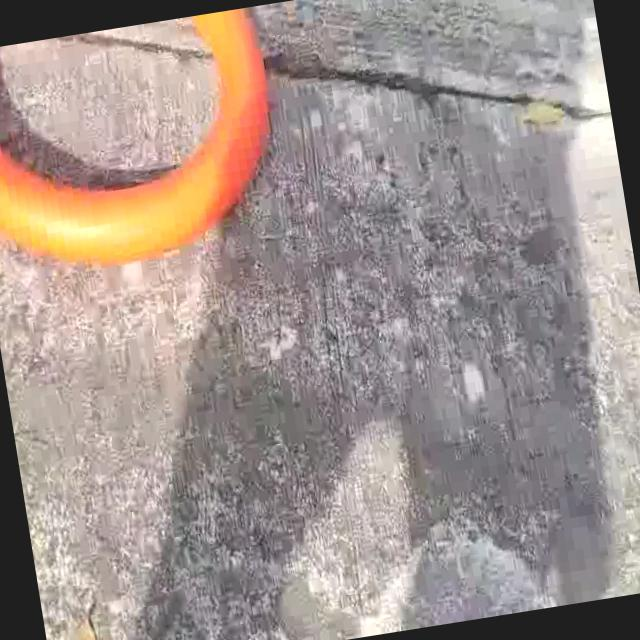note: (0, 4, 308, 281)
